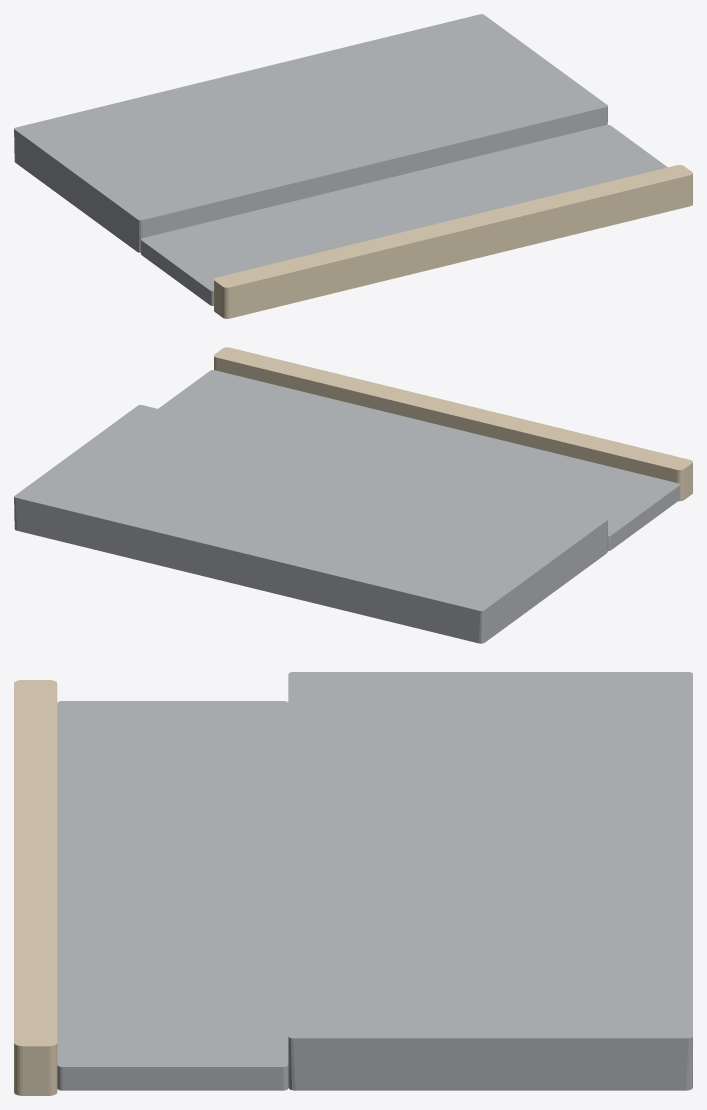
The model's file is a_hood_tele_3.glb.
3 views of the same model, one above another, from view 1: azimuth 30°, elevation 25°; view 2: azimuth 150°, elevation 25°; view 3: azimuth 270°, elevation 25° (orthographic). The views are drawn at different scales.
Visible parts, largest first — view 1: o, o.001, o.002; view 2: o, o.001, o.002; view 3: o, o.001, o.002.
Boxes of the visible parts, left/top/right/bottom form: o: left=14, top=14, right=607, bottom=252; o.001: left=141, top=125, right=667, bottom=305; o.002: left=214, top=165, right=692, bottom=318; o: left=14, top=405, right=607, bottom=643; o.001: left=158, top=370, right=679, bottom=550; o.002: left=214, top=347, right=692, bottom=501; o: left=288, top=672, right=692, bottom=1090; o.001: left=57, top=701, right=288, bottom=1090; o.002: left=14, top=680, right=57, bottom=1095.
Size of the model in its own units: 0.6 by 0.044 by 0.47.
